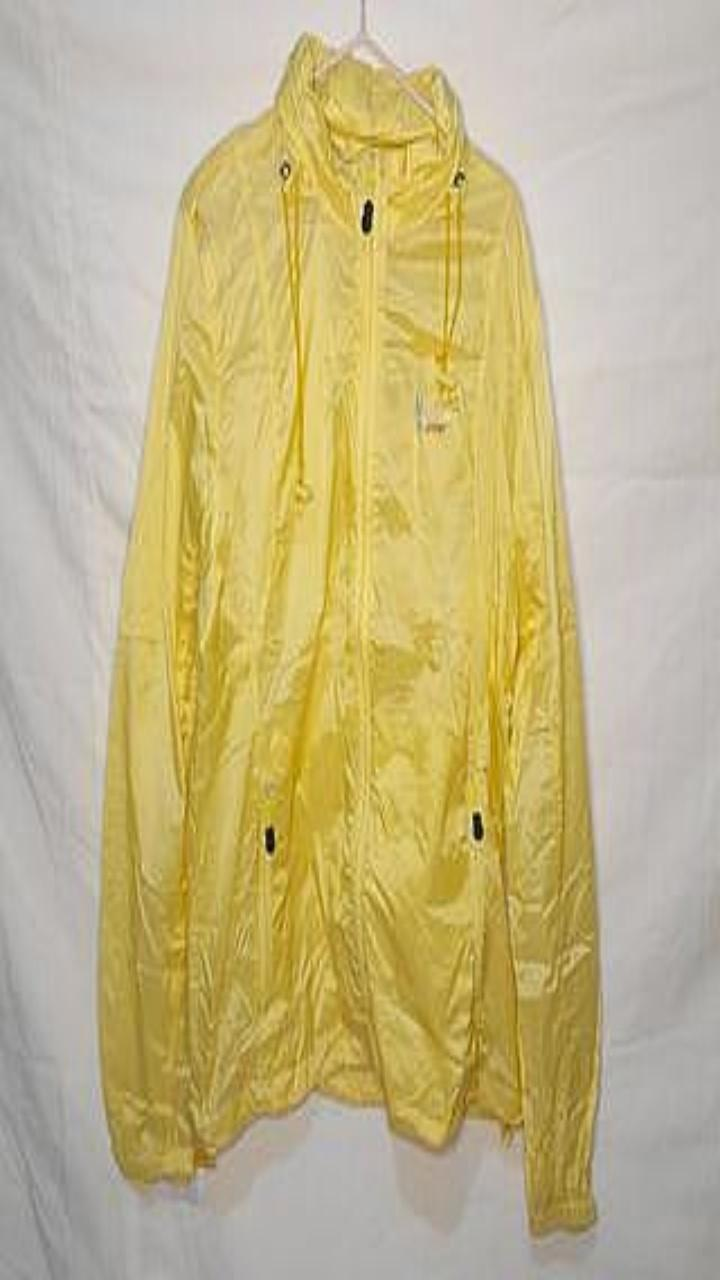Sports_Jacket: (98, 32, 600, 1233)
